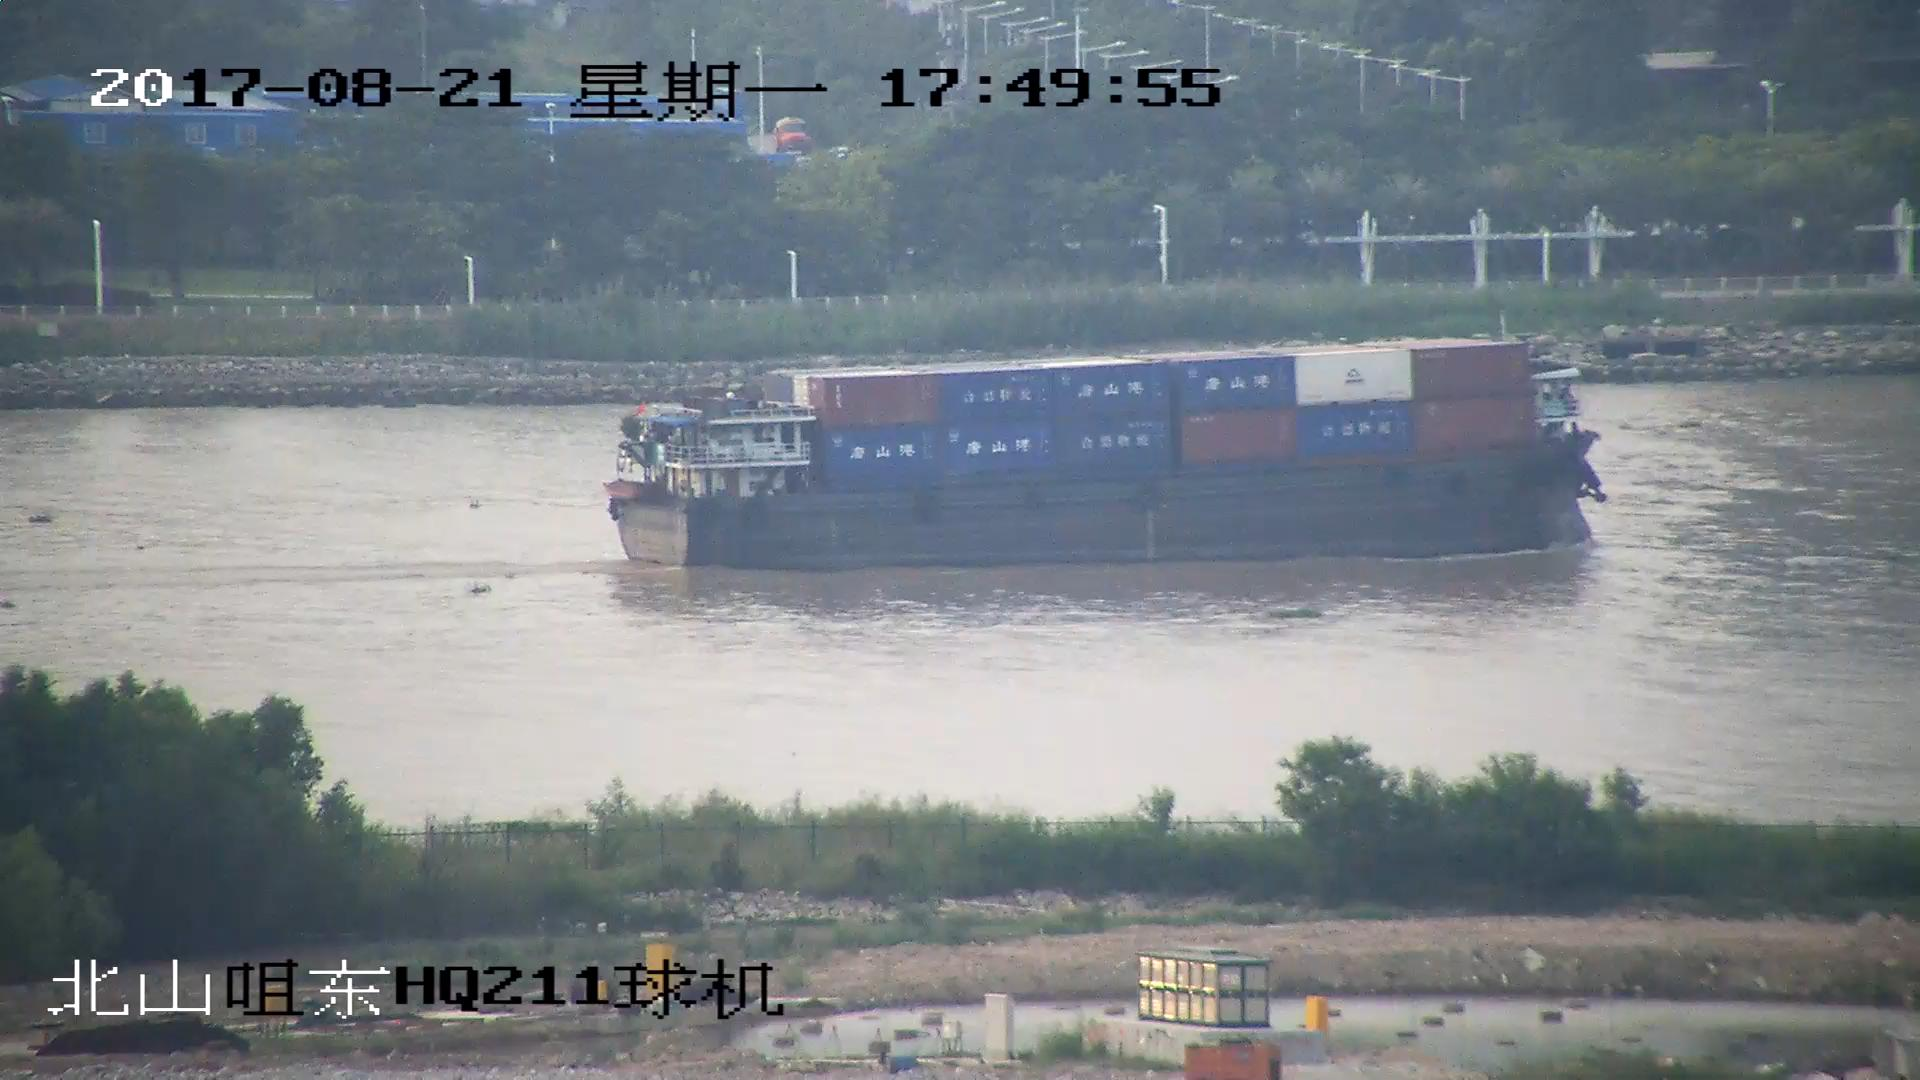container ship: (605, 337, 1601, 573)
